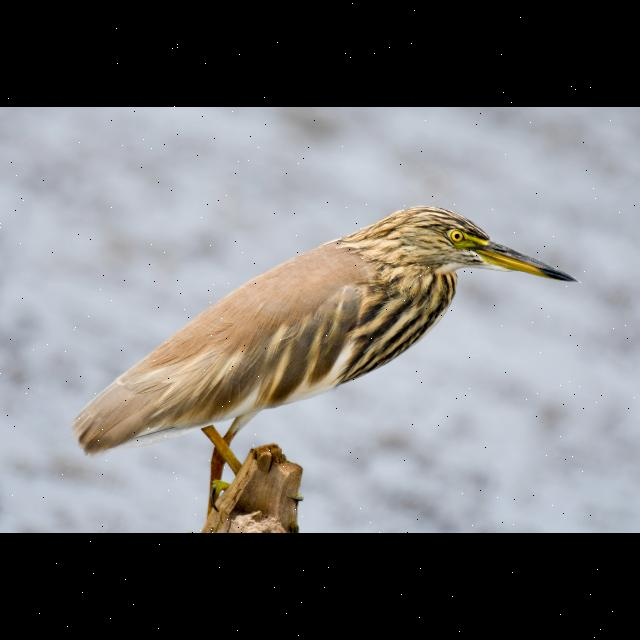heron: (66, 200, 586, 498)
